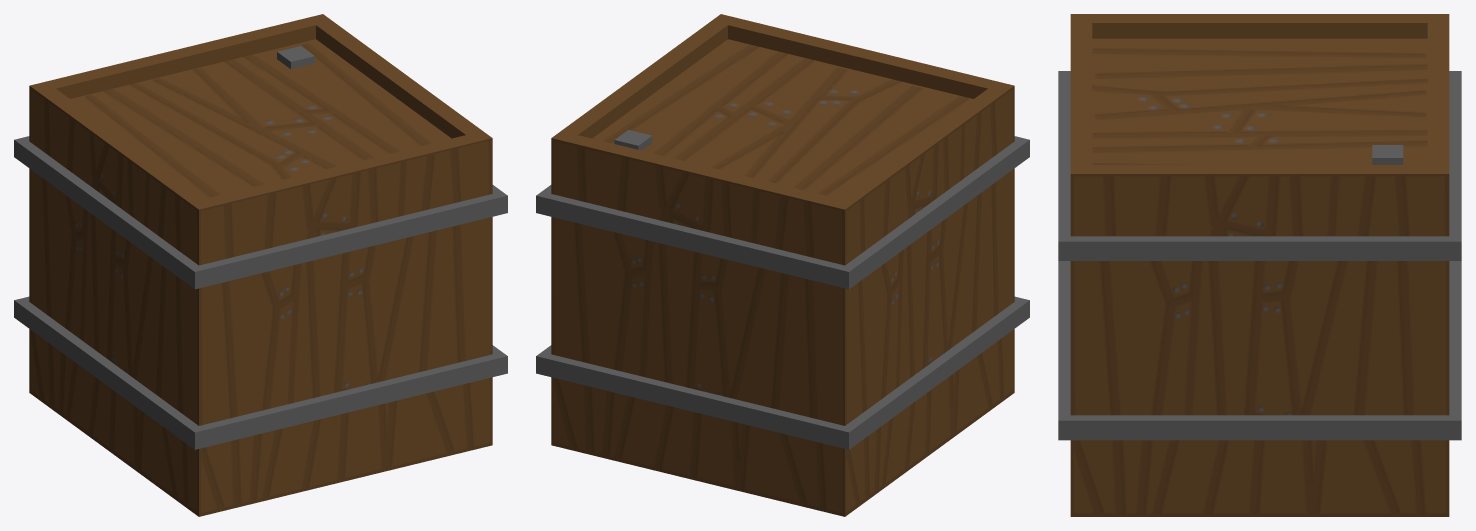
File: barrel.fbx
3 views of the same model, side by side, from view 1: azimuth 30°, elevation 25°; view 2: azimuth 150°, elevation 25°; view 3: azimuth 270°, elevation 25° (orthographic). The views are drawn at different scales.
Parts seen in each view (by area): view 1: Barrel; view 2: Barrel; view 3: Barrel.
Part boxes in pixels (x1,y1,x2,y2): Barrel: (14,14,507,516); Barrel: (536,14,1029,516); Barrel: (1058,14,1461,516).
Size of the model in its own units: 959 by 900 by 959.
